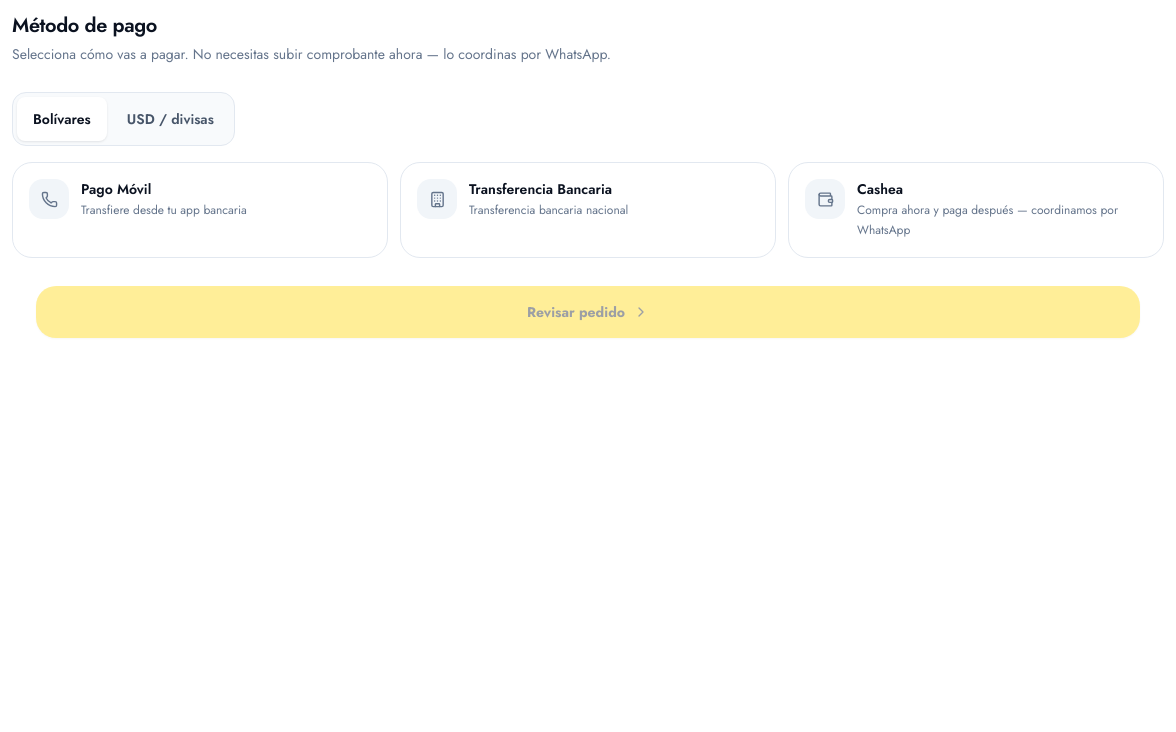
Test case: PaymentForm currency groups › seleccionar efectivo asigna automáticamente USD y no ofrece EUR
The image size is (1176, 732).
Step 1. Click the tab "USD / divisas" → {"x": 170, "y": 119}, box left=111, top=97, right=230, bottom=141
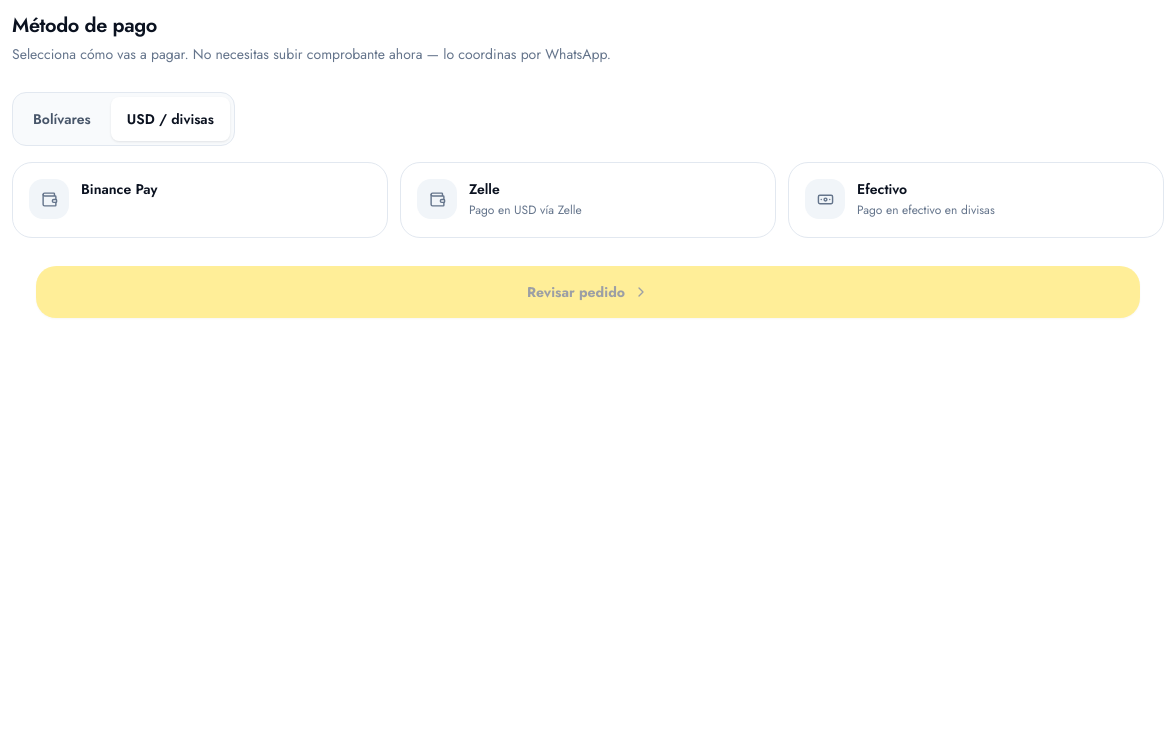
Step 2. Click the button "Efectivo Pago en efectivo en divisas" → {"x": 976, "y": 200}, box left=788, top=162, right=1164, bottom=238
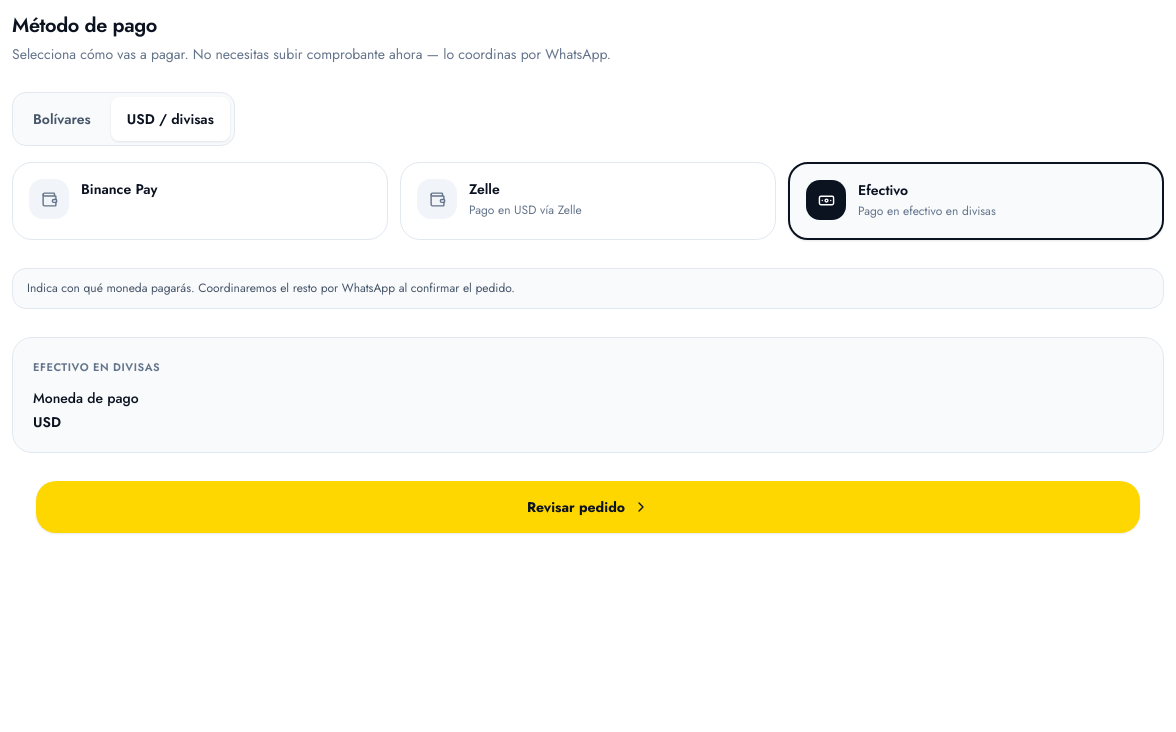
Result: the text "Moneda de pago" is shown at left=33, top=388, right=139, bottom=408
Result: the text "USD" is shown at left=33, top=412, right=61, bottom=432
